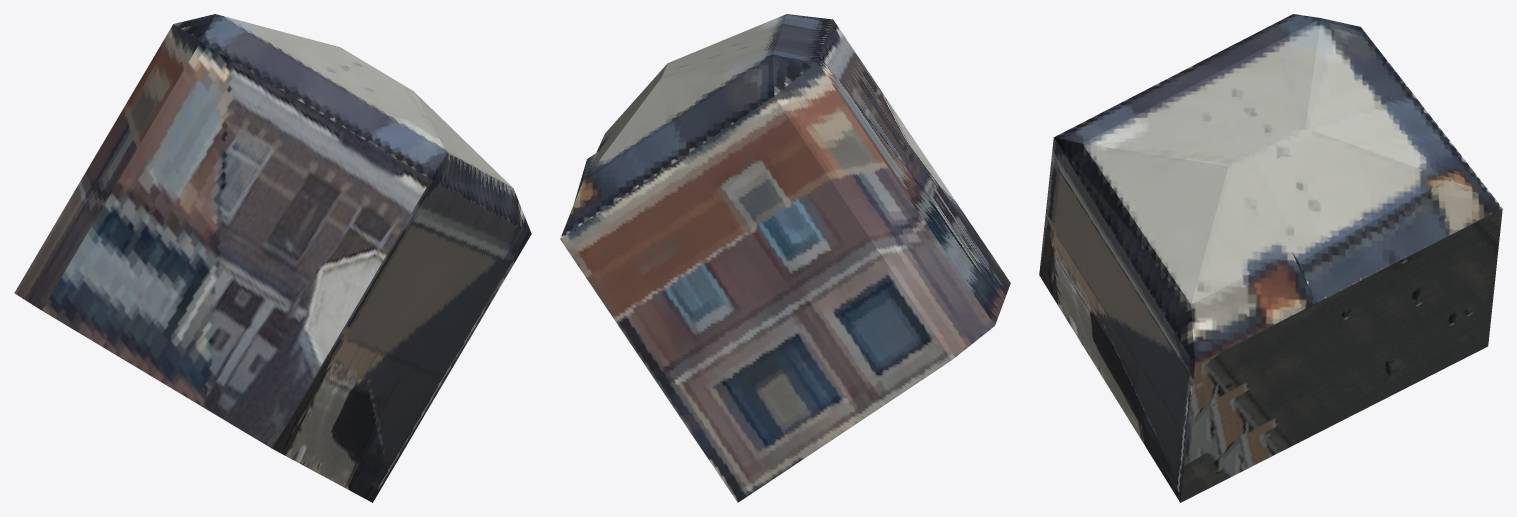
3 views of the same model, side by side, from view 1: azimuth 30°, elevation 25°; view 2: azimuth 150°, elevation 25°; view 3: azimuth 270°, elevation 25° (orthographic). The views are drawn at different scales.
Visible parts, largest first — view 1: BAG_0599100000650084 (×4); view 2: BAG_0599100000650084 (×5); view 3: BAG_0599100000650084 (×5).
Boxes of the visible parts, x1=… form: BAG_0599100000650084 (×4): x1=14, y1=14, x2=531, y2=502; BAG_0599100000650084 (×5): x1=560, y1=14, x2=1010, y2=502; BAG_0599100000650084 (×5): x1=1039, y1=14, x2=1502, y2=502.
Size of the model in its own units: 14.55 by 14.2 by 13.43.
1 material, 1 textured.
